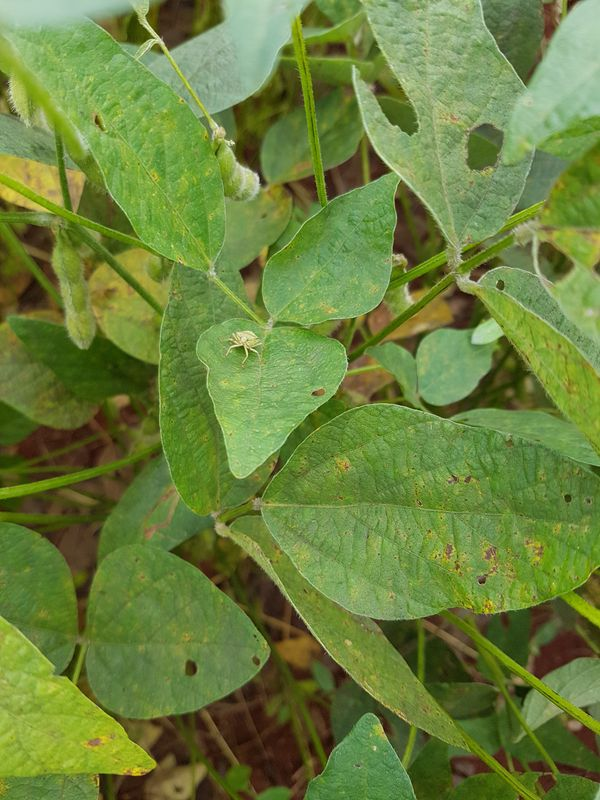Euschistus_heros_ninfa: (220, 326, 267, 370)
Nezara_viridula_adulto: (467, 311, 508, 350)
